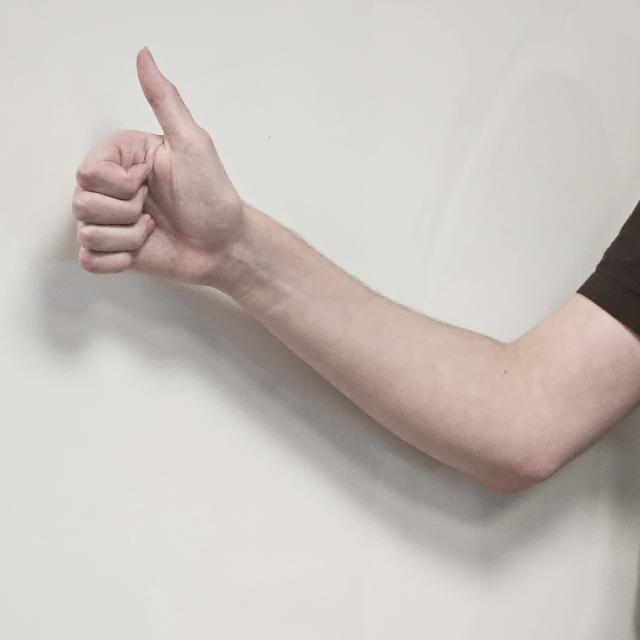Start: (76, 45, 232, 302)
